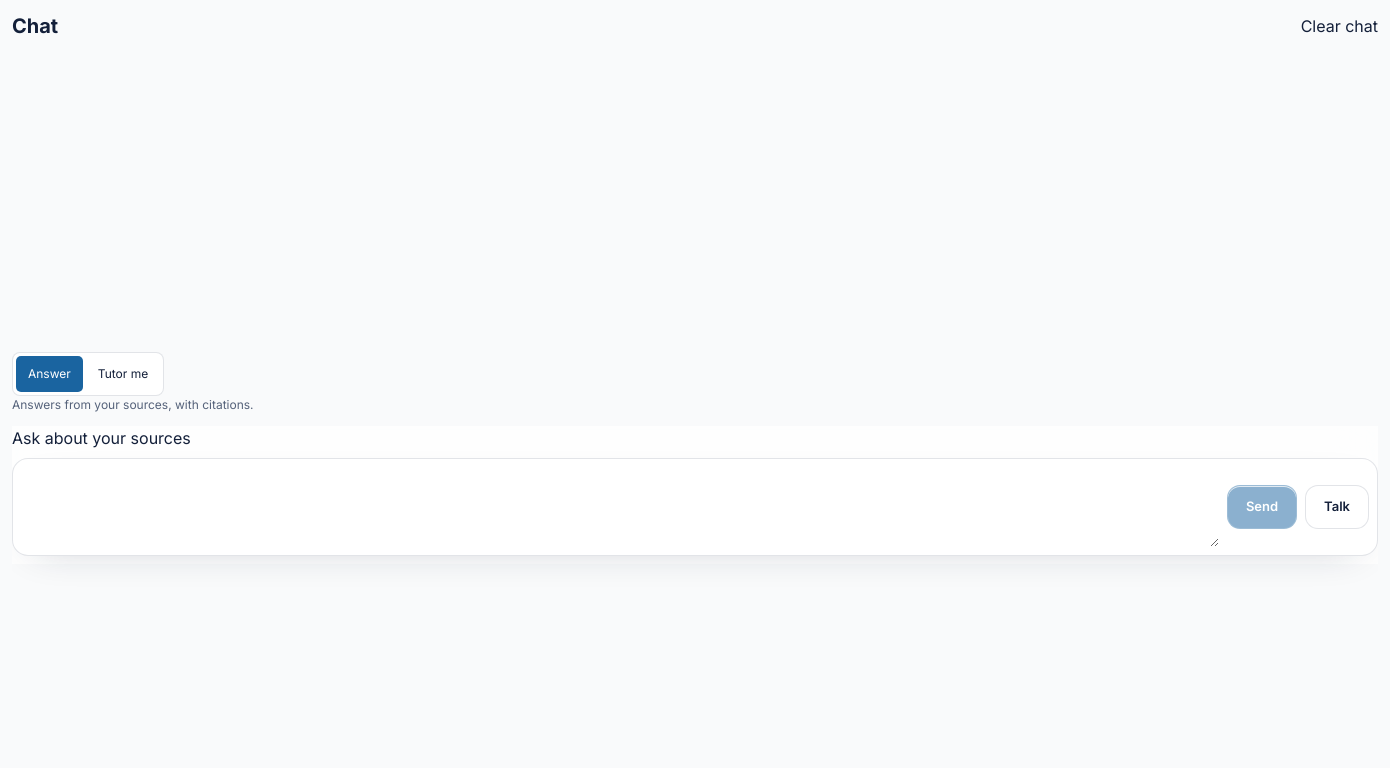
Test: shows the specified permission denied message
Click the button "Talk".
click(1337, 507)  # box [1305, 485, 1369, 529]
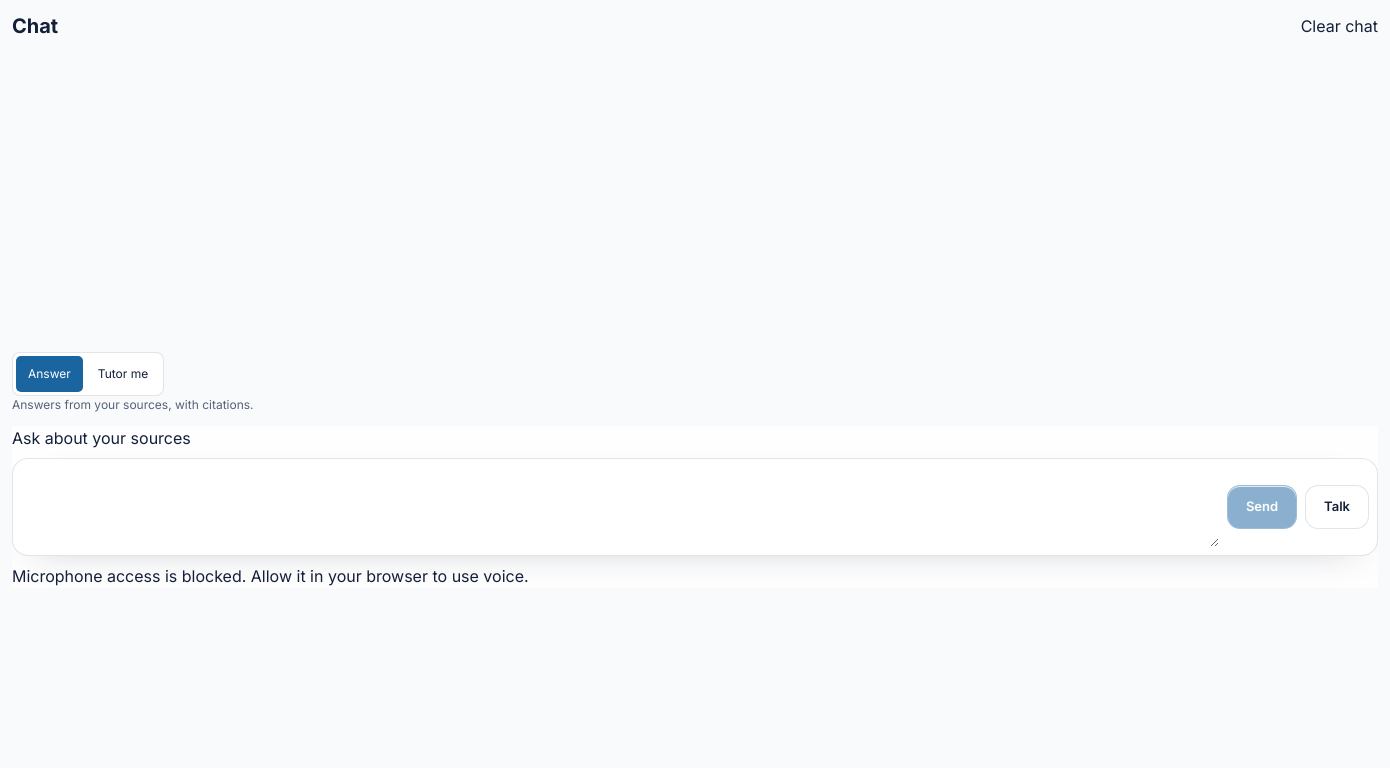
Now the message reads "Microphone access is blocked. Allow it in your browser to use voice.", box [12, 566, 529, 586]
